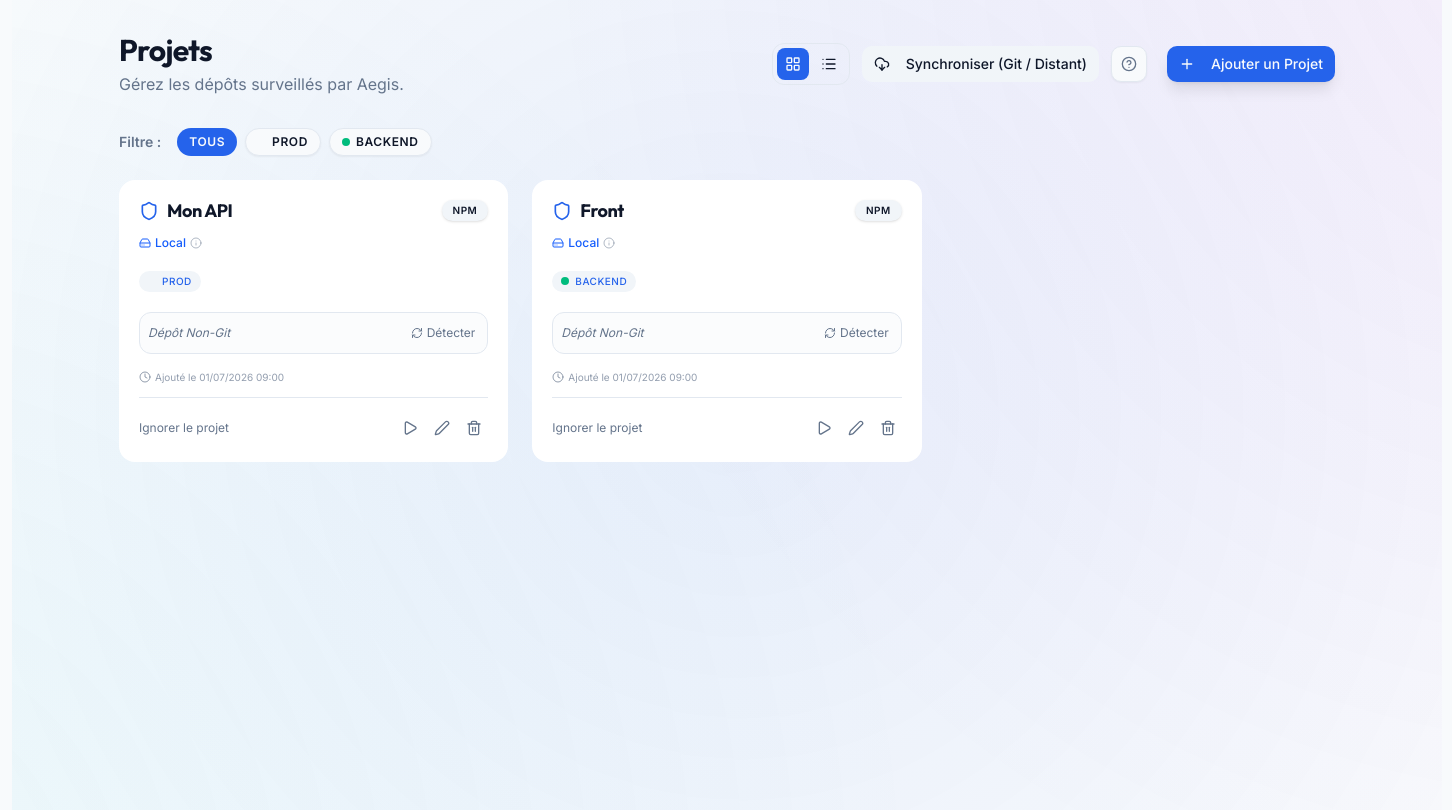
it: Projects › le filtre par tag est mono-sélection, pas un OU
The width and height of the screenshot is (1452, 810).
Expected: the heading "Mon API" is shown, x1=167 y1=200 x2=232 y2=222
What coordinates should you click on to do the following:
click the button "prod"
I would click on:
 (283, 142)
Its box is x1=245 y1=128 x2=321 y2=156.
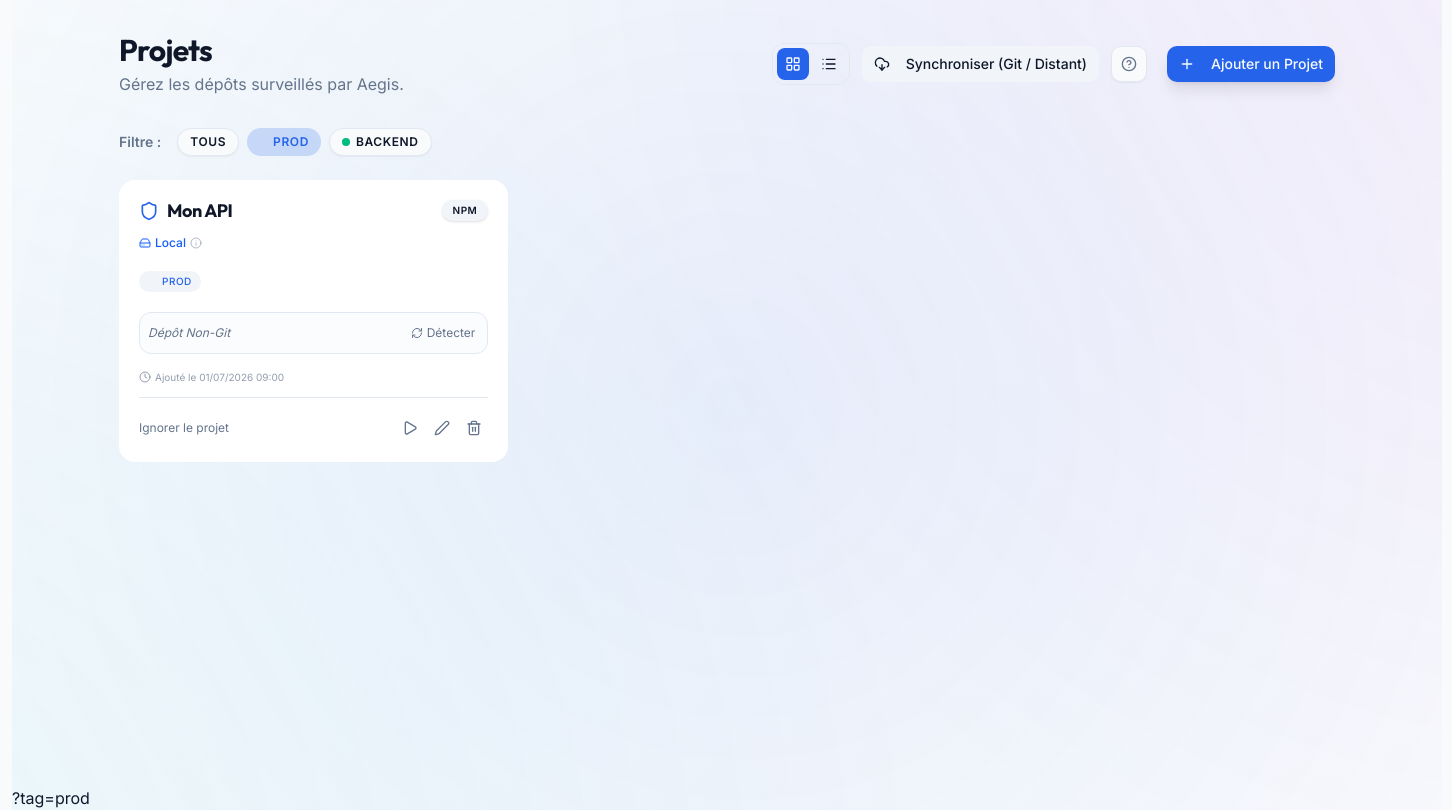
Result: no buttons "Front" are shown
Note: Sélectionner le second tag écarte le premier : impossible de voir les deux.
What coordinates should you click on to do the following:
click the button "backend"
I would click on:
 (380, 142)
Its box is x1=329 y1=128 x2=432 y2=156.
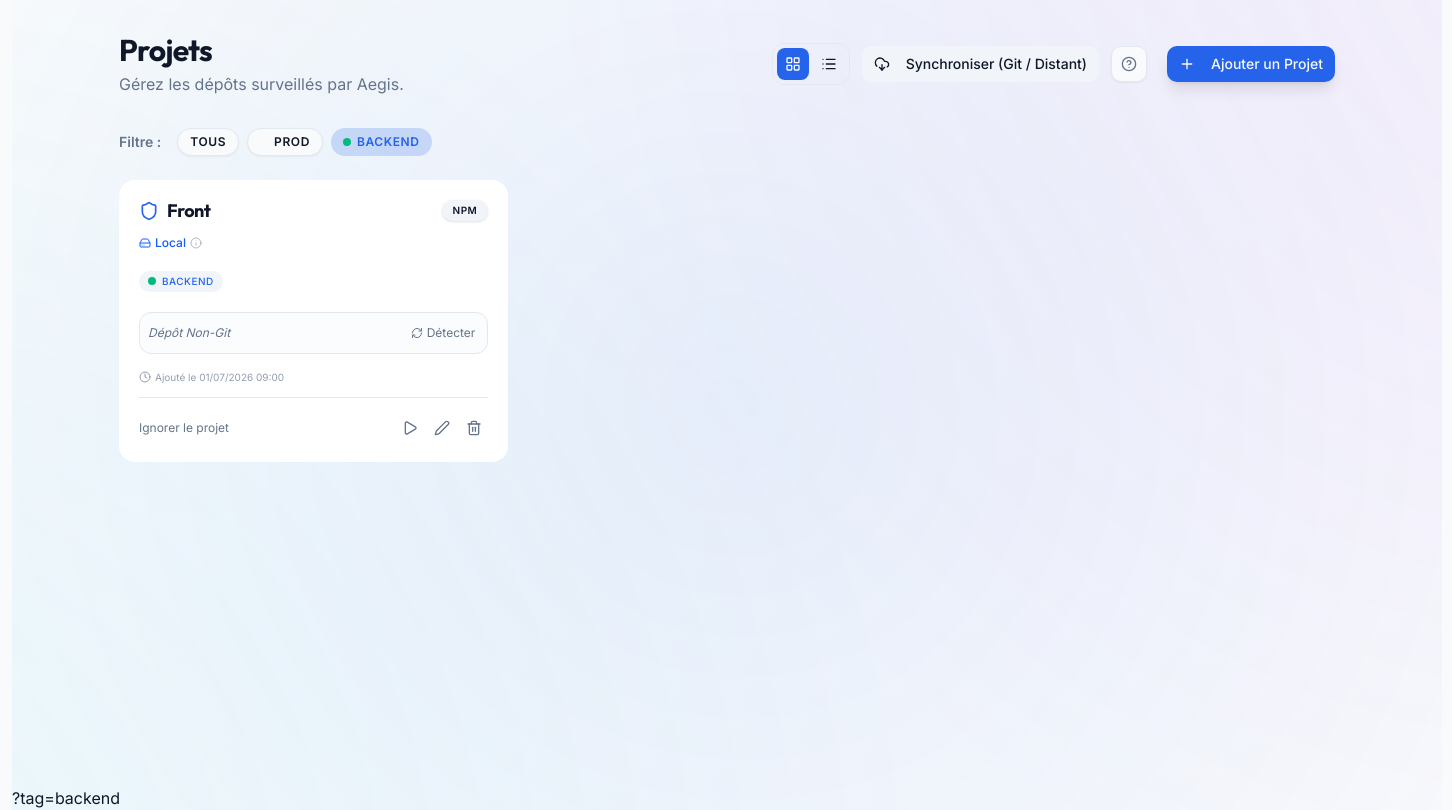
Result: the heading "Front" is shown at x1=167 y1=200 x2=210 y2=222
Result: no buttons "Mon API" are shown
